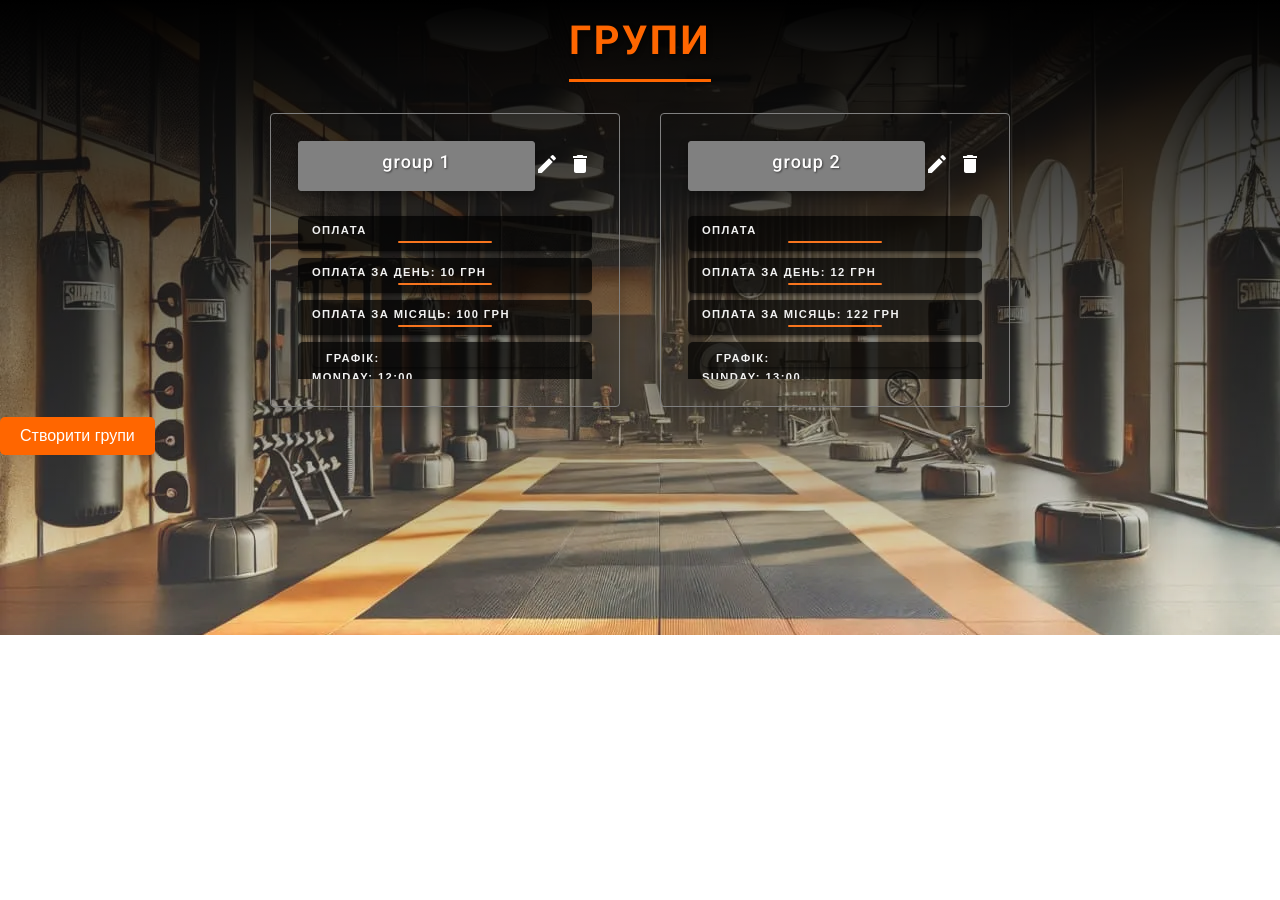
Test: GroupsPage › shows modal for editing a group
Click the 1st button with test id "editButton": (547, 166) [535, 141, 559, 191]
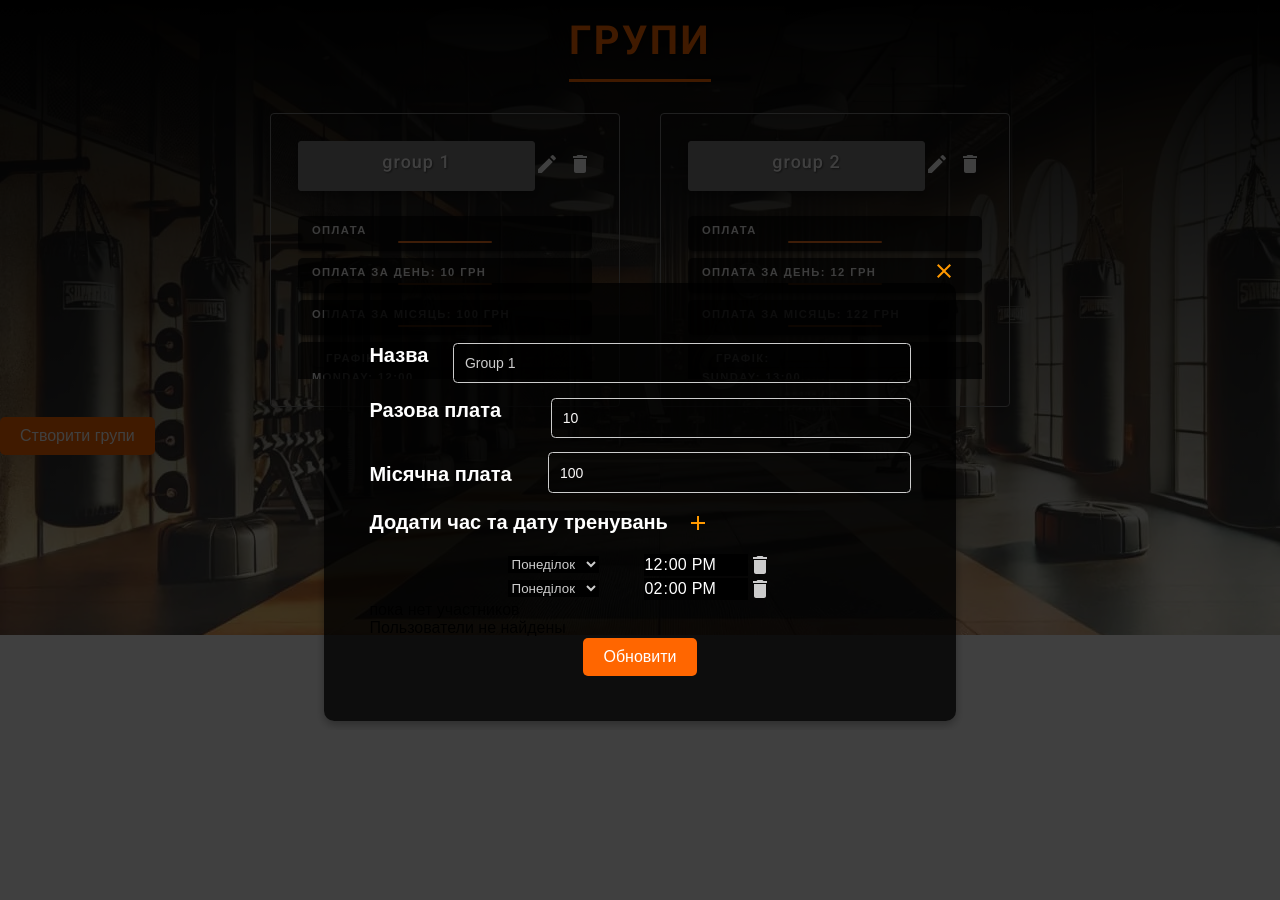
Expected: the button "Обновити" is shown, [584, 638, 696, 676]
